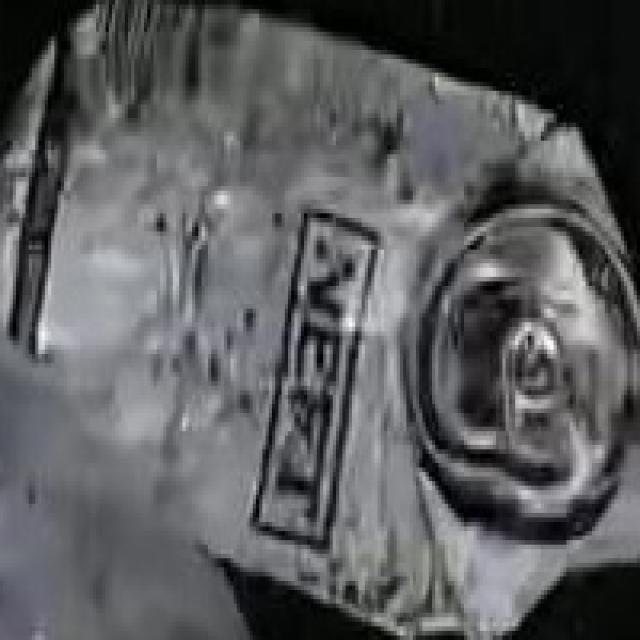can: (1, 0, 640, 639)
